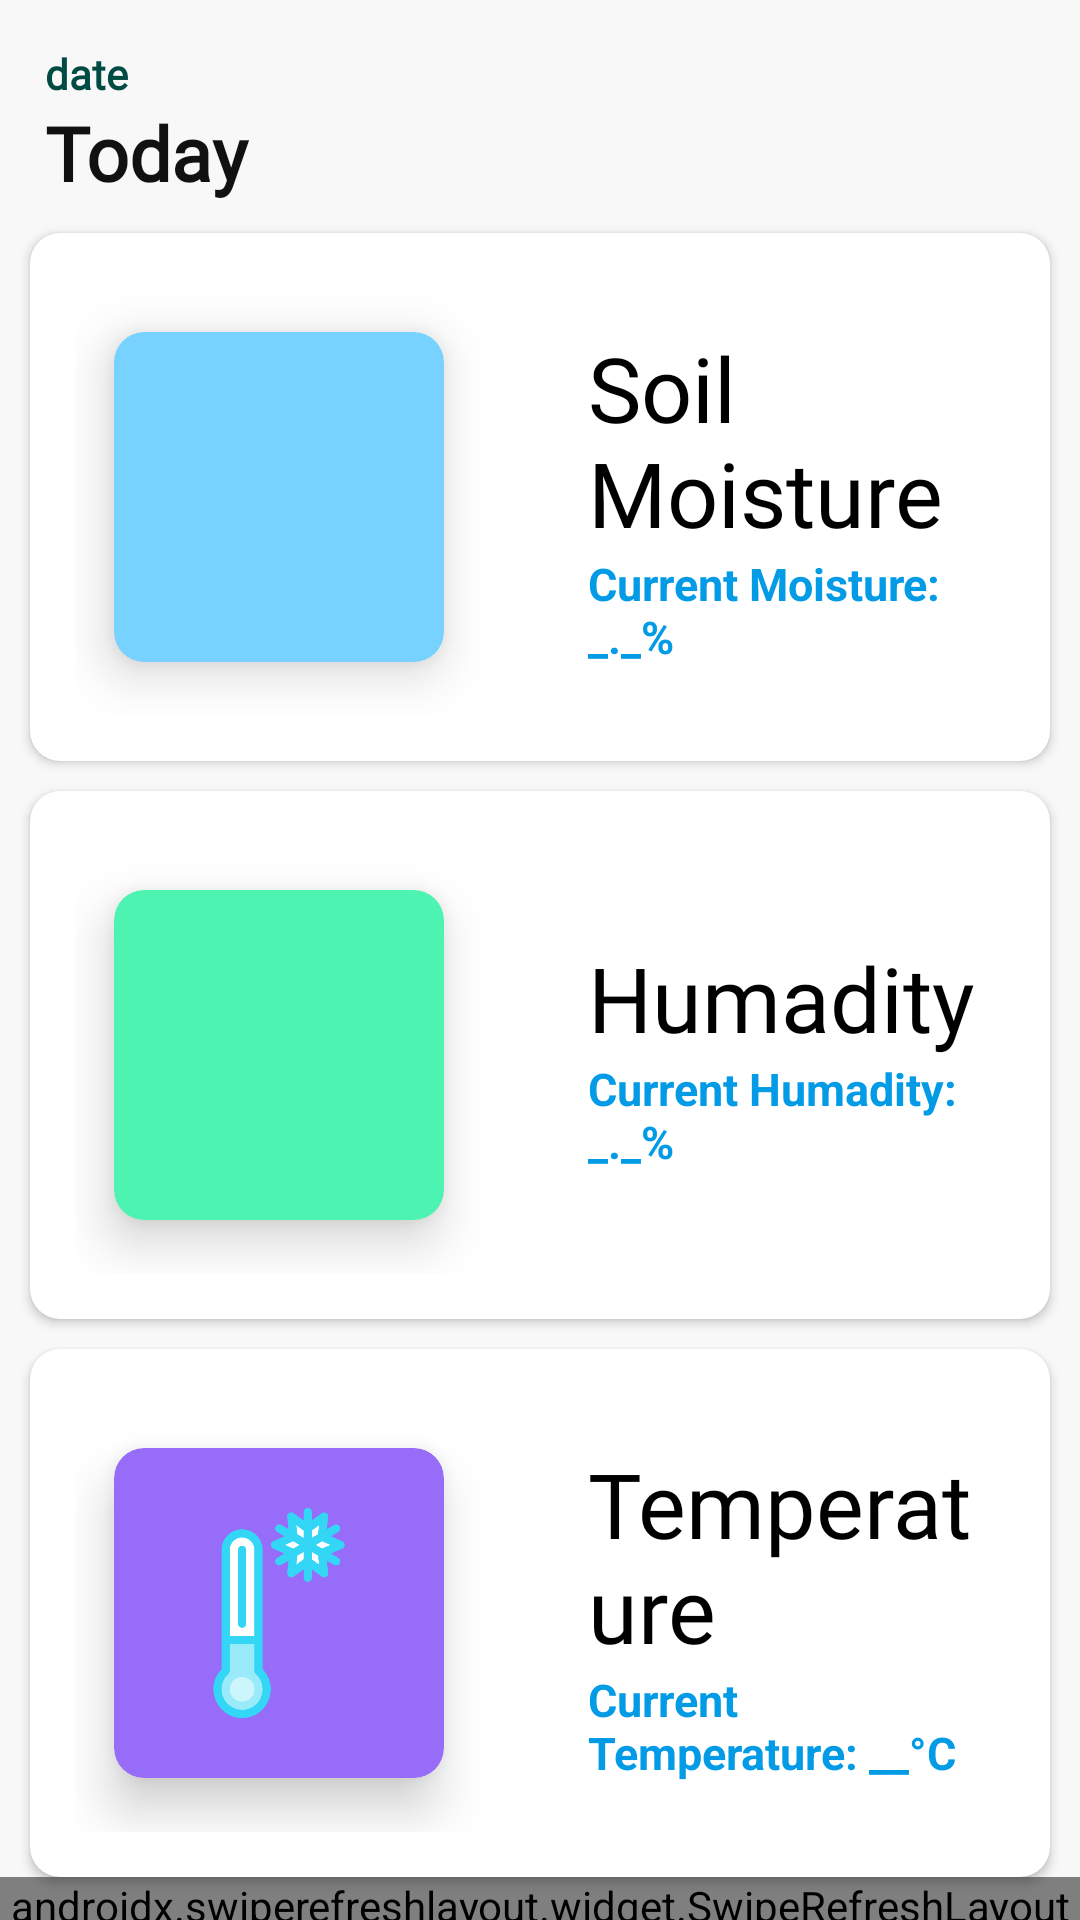

Point at icon controls on the screen. Image size 1080 x 1920, points as (x=x, y=y).
thermometer: (x=279, y=1613)
